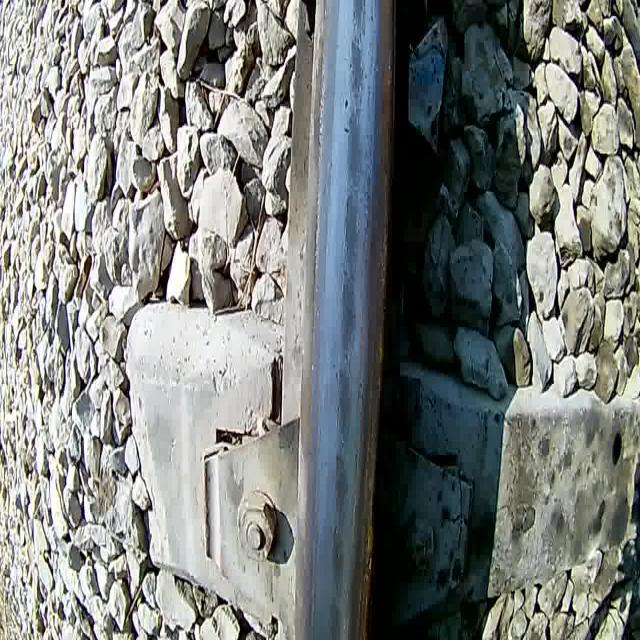Cracks: (360, 122, 376, 261), (348, 489, 360, 543), (342, 194, 351, 260), (352, 442, 361, 478), (368, 0, 378, 25), (337, 394, 341, 442)
Squats: (336, 266, 358, 362), (341, 107, 366, 190), (342, 34, 366, 114), (328, 447, 352, 522), (340, 188, 363, 264), (334, 361, 354, 447), (328, 521, 347, 596), (326, 594, 346, 640), (349, 0, 369, 40)
